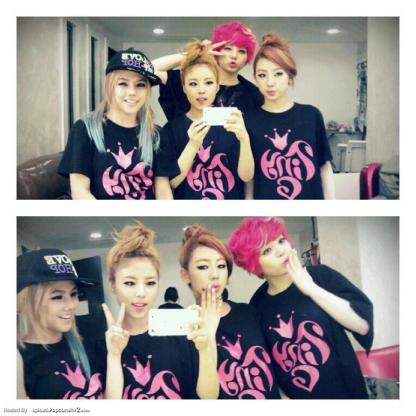face: (38, 269, 79, 333), (118, 258, 159, 318), (189, 247, 229, 298), (113, 67, 148, 115), (258, 234, 296, 278), (184, 64, 218, 109), (255, 59, 289, 100), (219, 37, 250, 73)
